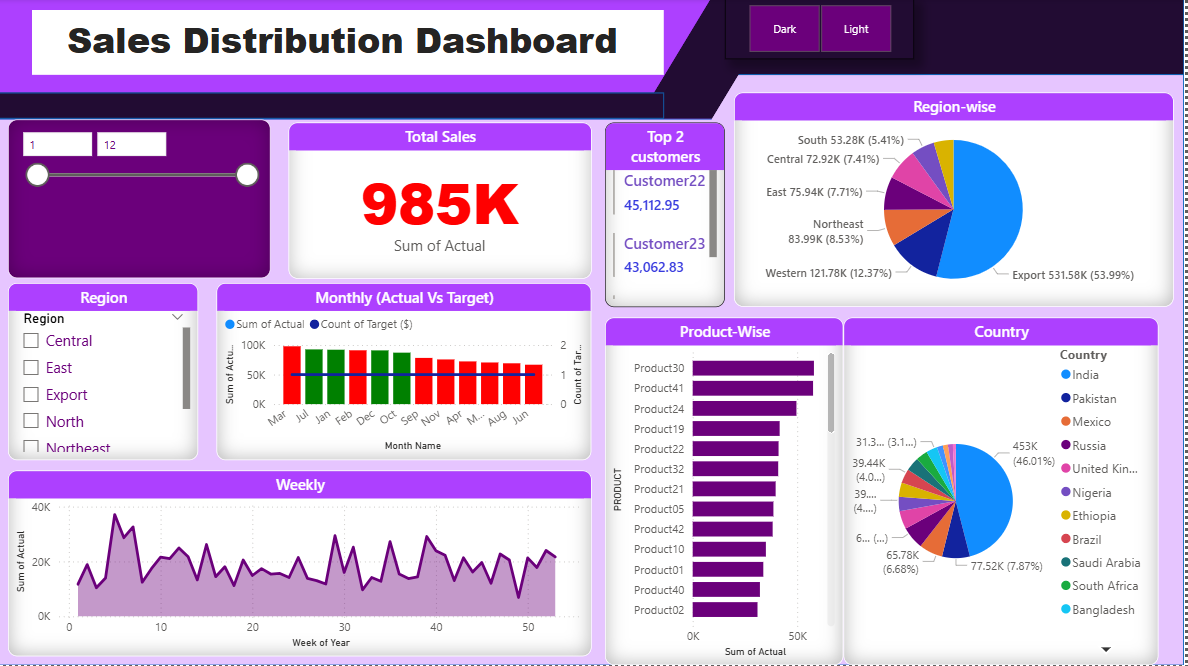

The page's visual inventory and layout, read from the dashboard file:
{"tool":"powerbi","page":{"name":"Page 1","canvas":[1280,720],"ordinal":0},"visuals":[{"type":"shape","box":[0,0,1279.2,720.6],"z":500},{"type":"shape","box":[0,0,769.1,131.2],"z":1000},{"type":"textbox","box":[35.9,13.2,682.2,69.9],"z":1500},{"type":"slicer","fields":{"Values":["InputData.Month"]},"box":[9.7,131.2,283.4,171.6],"z":3000},{"type":"card","title":"Total Sales","fields":{"Values":["Sum(InputData.Actual)"]},"box":[312.5,134.4,327.1,168.4],"z":4000},{"type":"slicer","title":"Region","fields":{"Values":["Country.Region"]},"box":[9.7,307.7,205.6,191.1],"z":5000},{"type":"lineStackedColumnComboChart","title":"Monthly  (Actual Vs Target)","fields":{"Category":["TargetData.Month Name"],"Y":["Sum(InputData.Actual)"],"Y2":["CountNonNull(TargetData.Target ($))"]},"box":[234.8,307.7,404.8,191.1],"z":6000},{"type":"areaChart","title":"Weekly","fields":{"Category":["InputData.Week of Year"],"Y":["Sum(InputData.Actual)"]},"box":[9.7,510.1,629.9,200.8],"z":7000},{"type":"multiRowCard","title":"Top 2 customers","fields":{"Values":["InputData.CUSTOMER NAME","Sum(InputData.Actual)"]},"box":[654.2,134.4,129.5,199.2],"z":8000},{"type":"clusteredBarChart","title":"Product-Wise","fields":{"Category":["InputData.PRODUCT"],"Y":["Sum(InputData.Actual)"]},"box":[654.2,344.9,257.5,375.7],"z":9000},{"type":"pieChart","title":" Region-wise","fields":{"Category":["Country.Region"],"Y":["Sum(InputData.Actual)"]},"box":[793.4,102,474.4,231.5],"z":10000},{"type":"pieChart","title":" Country","fields":{"Category":["Country.Country"],"Y":["Sum(InputData.Actual)"]},"box":[911.6,344.9,340,375.7],"z":11000},{"type":"shape","box":[769.1,0,510.2,83.2],"z":12000},{"type":"shape","box":[689.8,0,158.7,130.4],"z":13000},{"type":"shape","box":[0,102,718.1,28.3],"z":14000},{"type":"slicer","fields":{"Values":["Theme.Theme"]},"box":[848.5,0,204,66.4],"z":15000}]}

Visuals, with their boxes in screenshot pixels (x1, y1, x2, y2), scaled from the page's 1280x720 canvas onto the 1188x666 screenshot:
shape: select_region(0, 0, 1187, 665)
shape: select_region(0, 0, 714, 121)
textbox: select_region(33, 12, 666, 77)
slicer - InputData.Month: select_region(9, 121, 272, 280)
"Total Sales" card: select_region(290, 124, 594, 280)
"Region" slicer: select_region(9, 285, 200, 461)
"Monthly  (Actual Vs Target)" lineStackedColumnComboChart: select_region(218, 285, 594, 461)
"Weekly" areaChart: select_region(9, 472, 594, 658)
"Top 2 customers" multiRowCard: select_region(607, 124, 727, 309)
"Product-Wise" clusteredBarChart: select_region(607, 319, 846, 665)
" Region-wise" pieChart: select_region(736, 94, 1177, 308)
" Country" pieChart: select_region(846, 319, 1162, 665)
shape: select_region(714, 0, 1187, 77)
shape: select_region(640, 0, 788, 121)
shape: select_region(0, 94, 666, 121)
slicer - Theme.Theme: select_region(788, 0, 977, 61)
